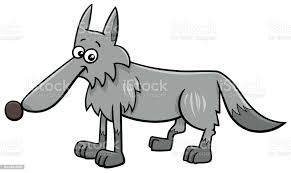Lobo: (2, 1, 287, 167)
